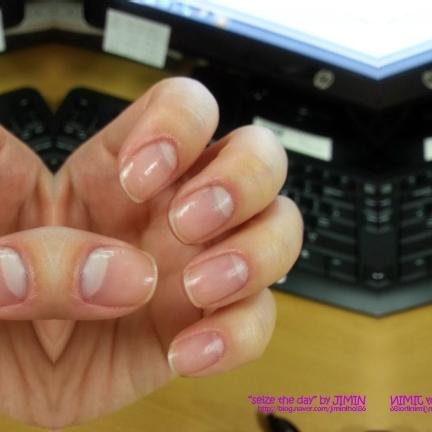Nail: (77, 245, 158, 309), (168, 185, 233, 243), (119, 141, 176, 202), (183, 254, 248, 307), (167, 332, 223, 373), (0, 245, 29, 308)
